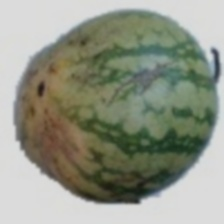watermelon: (36, 0, 216, 202)
